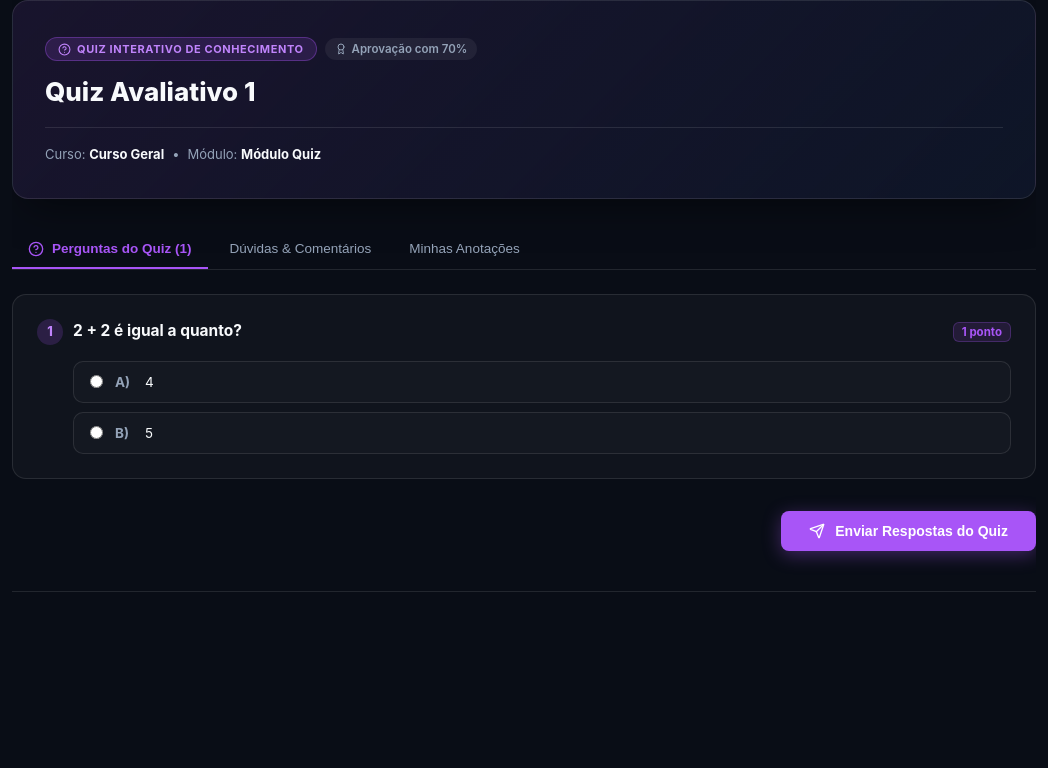
Test: LessonQuizViewer Component › allows answering and submits quiz answers, displaying success banner
This screenshot has width=1048, height=768.
Expected: the heading "2 + 2 é igual a quanto?" is shown, [73,319,242,343]
Note: Clica na opção 4 (id 101)
Click the radio button labelled "A) 4". click: (96, 382)
box: [90,375,103,388]
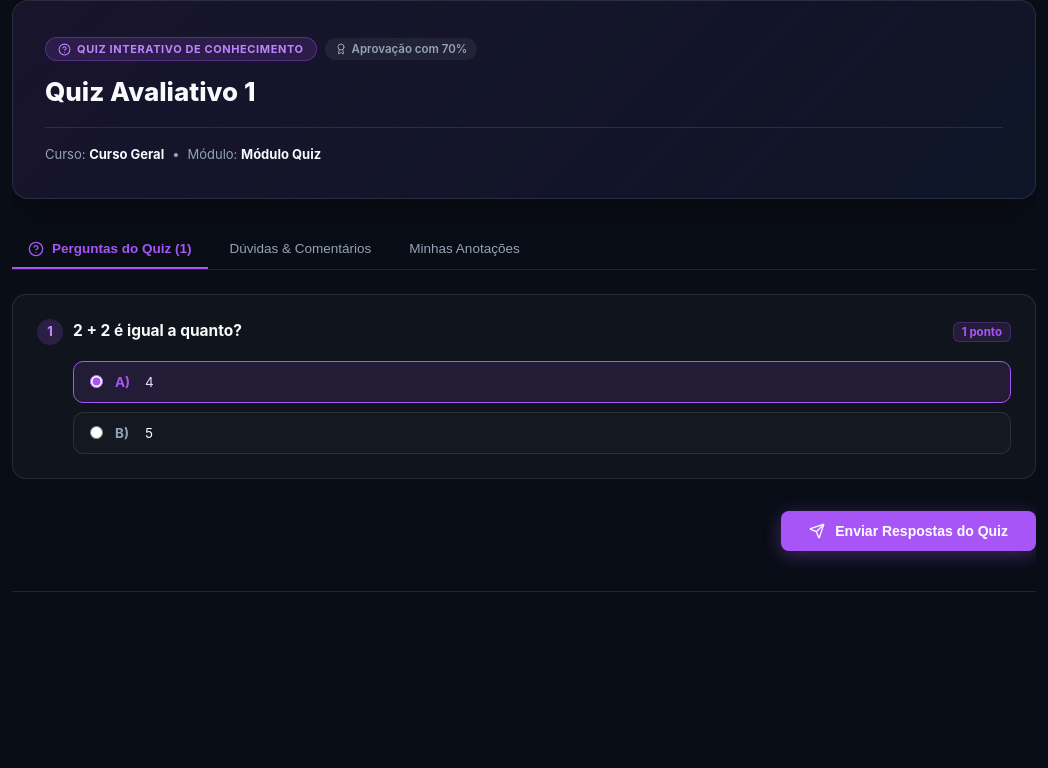
Expected: the radio button labelled "A) 4" is checked, [90,375,103,388]
Note: Envia o quiz
Click the button with test id "submit-quiz-btn". click: (909, 531)
box: [781,511,1036,551]
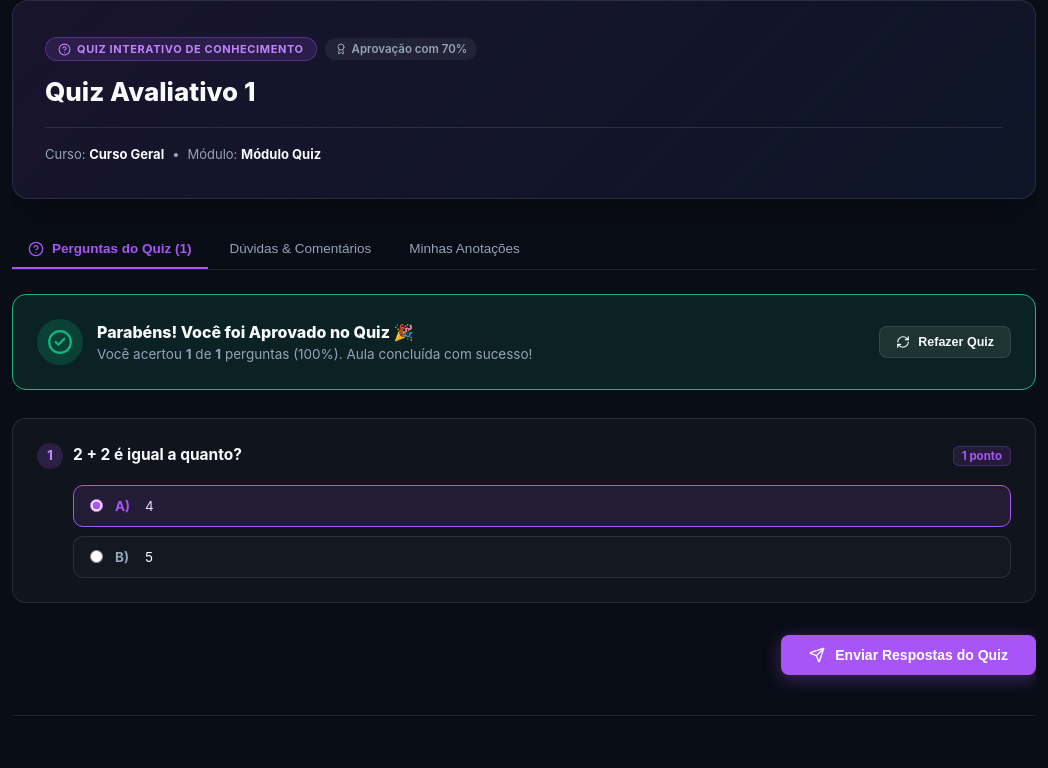
Expected: the element with test id "quiz-result-banner" is shown, [12,294,1036,390]
Expected: the heading "Parabéns! Você foi Aprovado no Quiz 🎉" is shown, [97,322,413,342]
